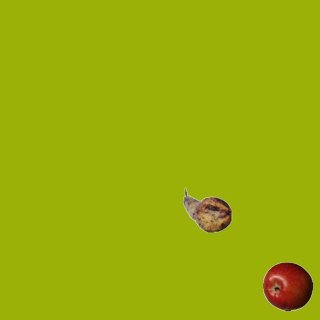Apple Braeburn: (262, 261, 312, 311)
Pear Abate: (182, 185, 232, 235)
